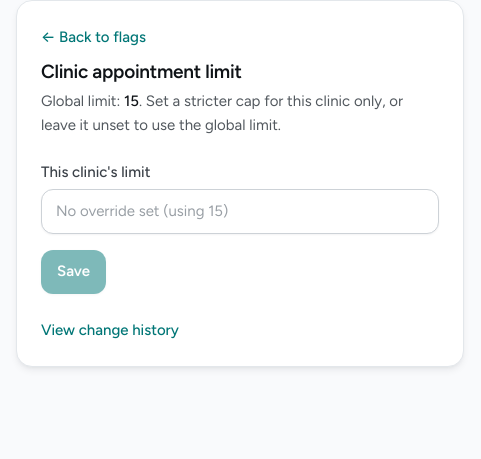
Scenario: ClinicLimitOverrideForm › shows a validation message for an over-cap value before submitting
This screenshot has width=481, height=459.
Type "20" into the number field labelled "This clinic's limit".
click(240, 212); type("20")  # box [41, 189, 439, 234]
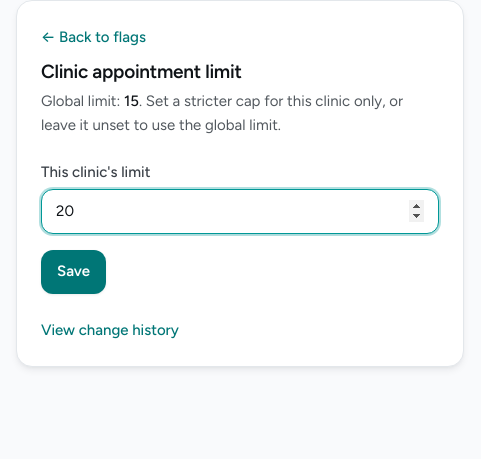
Click the button "Save".
click(74, 272)  # box [41, 250, 106, 294]
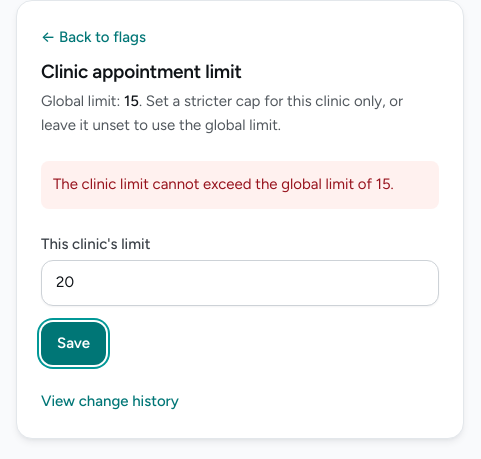
Result: the message shows "cannot exceed the global limit of 15" at [53, 175, 394, 193]
